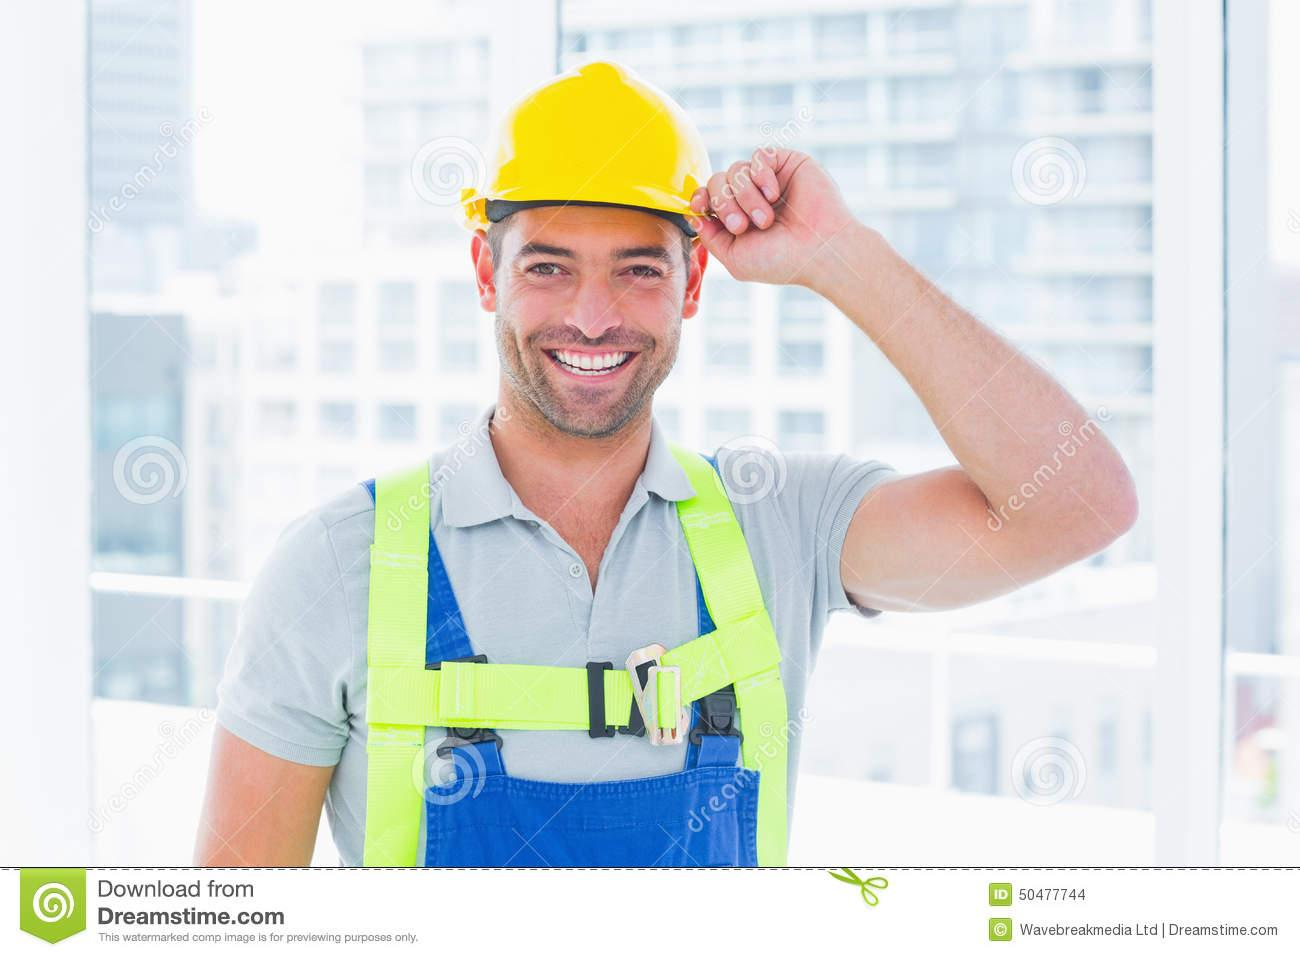helmet: (462, 62, 720, 242)
